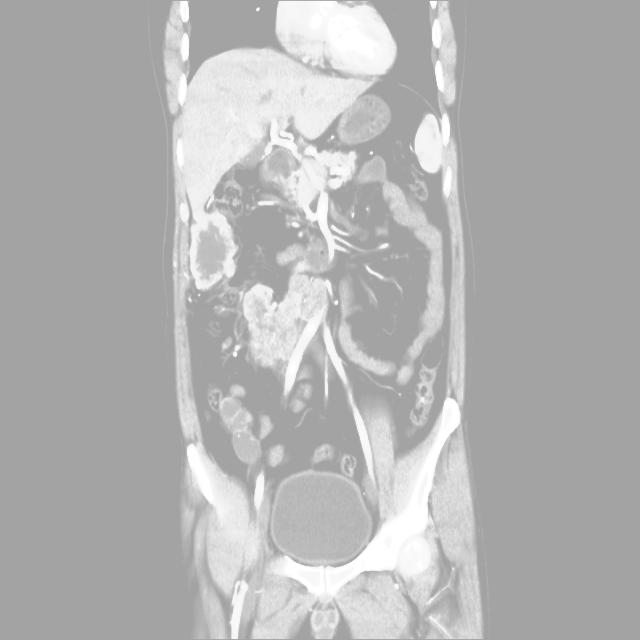TUMOR: (154, 206, 527, 495)
